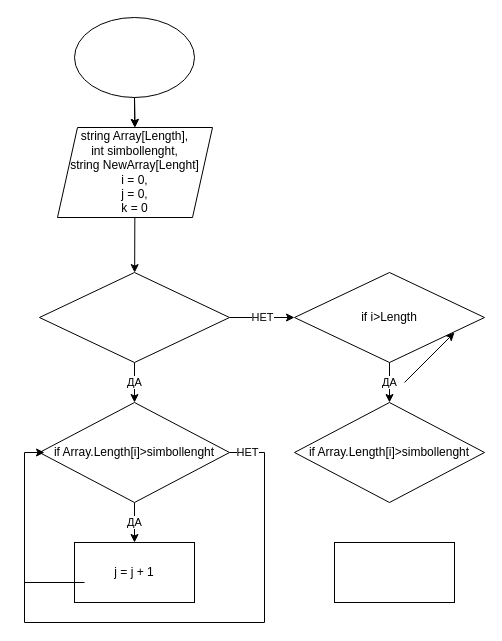
Some shapes in this 502 by 641 pixel diagram are drawn without their labels. Here are the shapes that lost their labels. From the top down, the box of each, then its label:
(74, 16, 194, 98): Start
(38, 272, 230, 362): if i<Length
(334, 542, 454, 602): NewArray[k]=Array[i]
